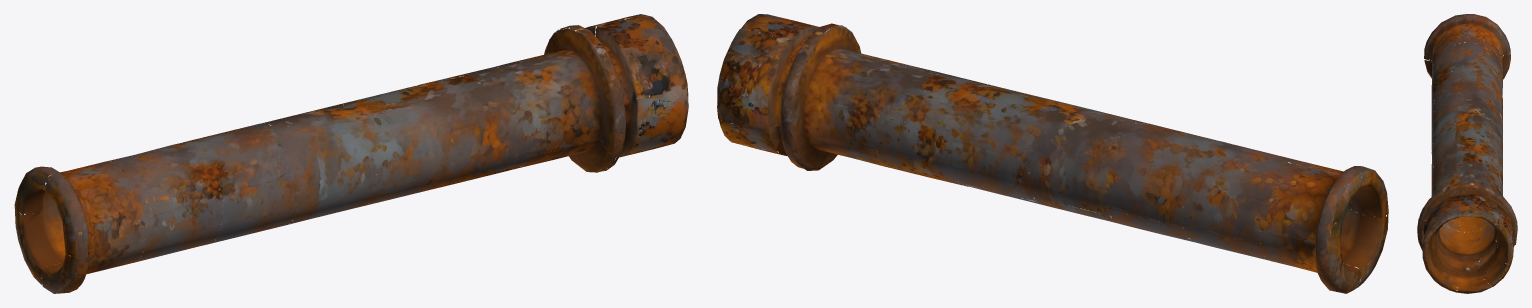
Rendered from pipe_length.glb.
The picture shows the model from 3 angles, left to right: view 1: azimuth 30°, elevation 25°; view 2: azimuth 150°, elevation 25°; view 3: azimuth 270°, elevation 25°; orthographic projection. The views are drawn at different scales.
Visible parts, largest first — view 1: tripo_node_aa37a9c8-9582-4e7e-9a4e-c14039df099c; view 2: tripo_node_aa37a9c8-9582-4e7e-9a4e-c14039df099c; view 3: tripo_node_aa37a9c8-9582-4e7e-9a4e-c14039df099c.
Boxes of the visible parts, bbox=[...] form: tripo_node_aa37a9c8-9582-4e7e-9a4e-c14039df099c: bbox=[14, 14, 688, 293]; tripo_node_aa37a9c8-9582-4e7e-9a4e-c14039df099c: bbox=[717, 14, 1388, 293]; tripo_node_aa37a9c8-9582-4e7e-9a4e-c14039df099c: bbox=[1417, 14, 1517, 293].
Bounding box in the file's own units: 1 × 0.2113 × 0.2072.
Materials: 1 (1 with a texture image).
